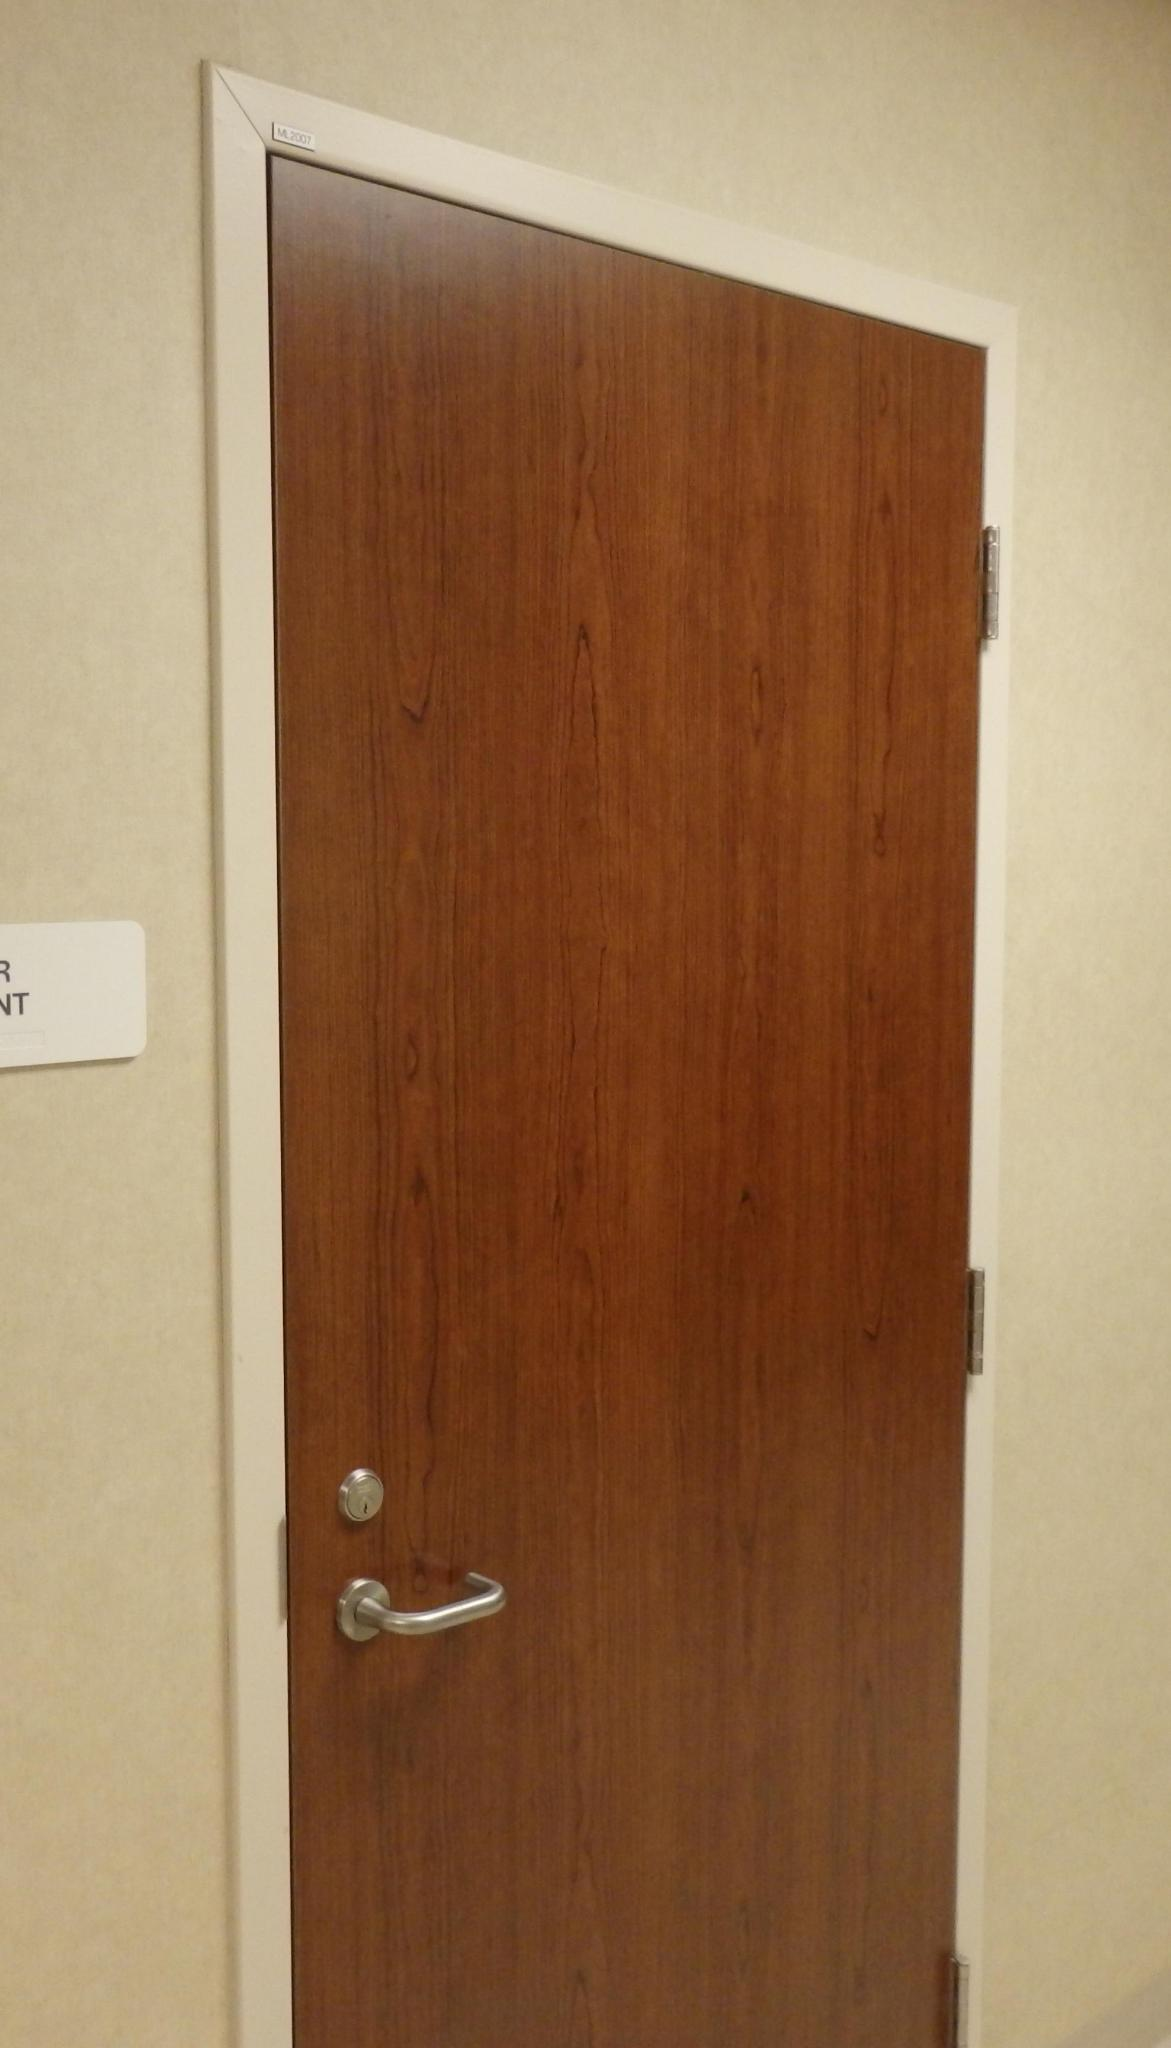door: (287, 153, 952, 2047)
handle: (340, 1533, 503, 1689)
